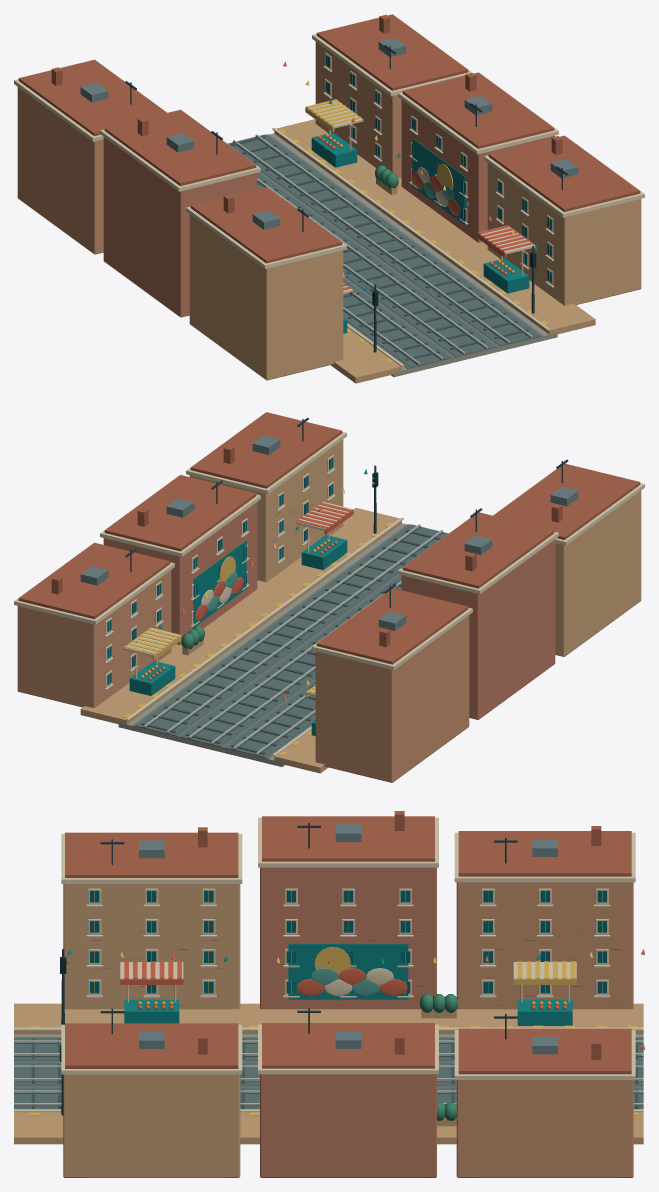
Rendered from mural-2.glb.
The picture shows the model from 3 angles, top to bottom: view 1: azimuth 30°, elevation 25°; view 2: azimuth 150°, elevation 25°; view 3: azimuth 270°, elevation 25°; orthographic projection. The views are drawn at different scales.
Visible parts, largest first — view 1: city-mural-2; view 2: city-mural-2; view 3: city-mural-2.
Part boxes in pixels (<box>): city-mural-2: <box>14,14,644,383</box>; city-mural-2: <box>14,412,644,782</box>; city-mural-2: <box>14,811,644,1177</box>.
Bounding box in the file's own units: 25.5 × 10.4 × 32.07.
